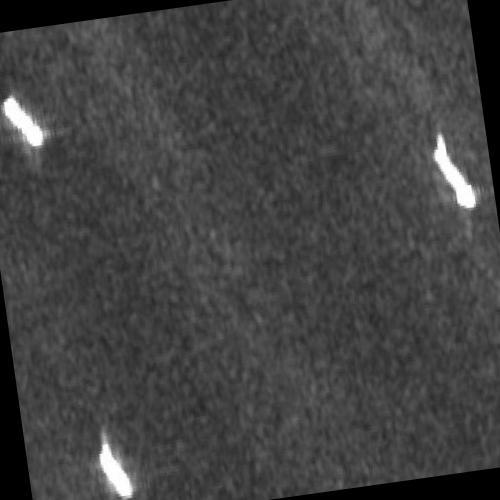ship: (435, 134, 476, 207), (3, 96, 44, 145), (99, 443, 134, 497)
